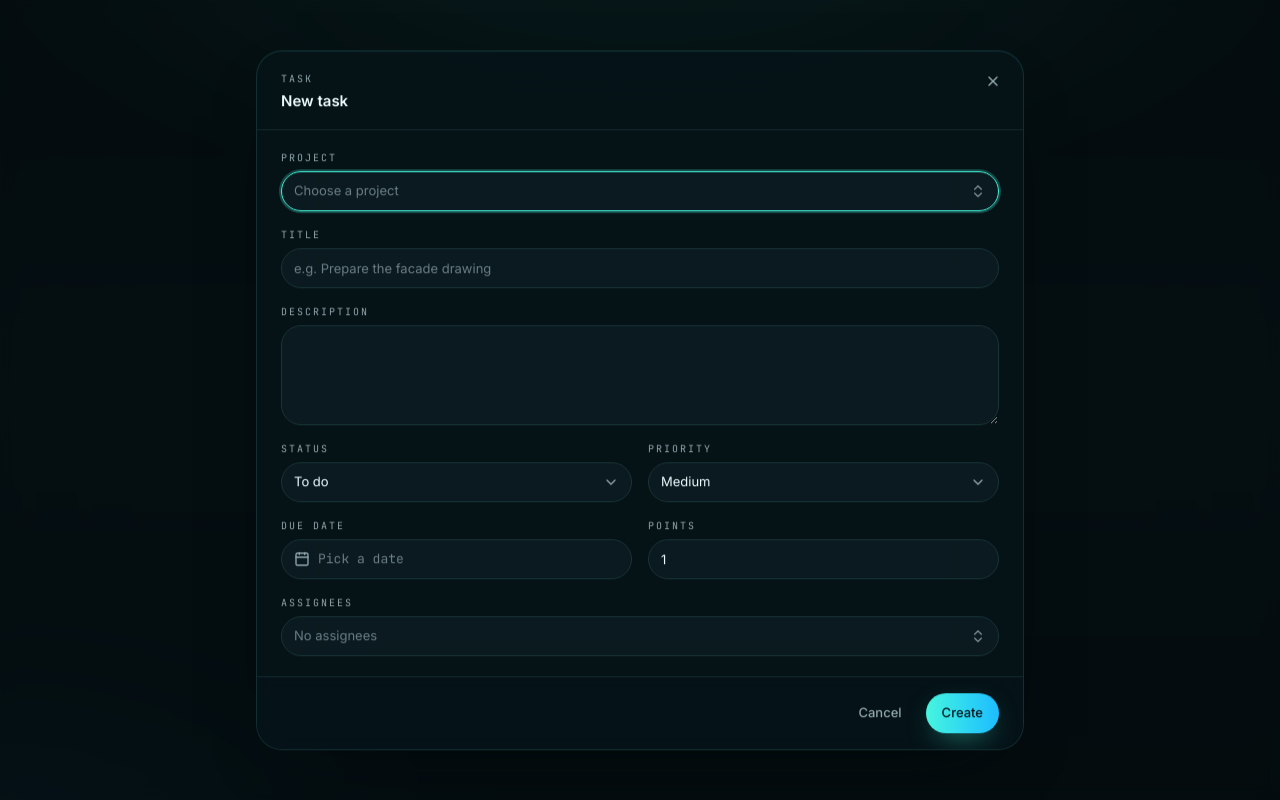
IssueFormDialog › validates required fields
Click the button "Create": (962, 713) [926, 693, 999, 733]
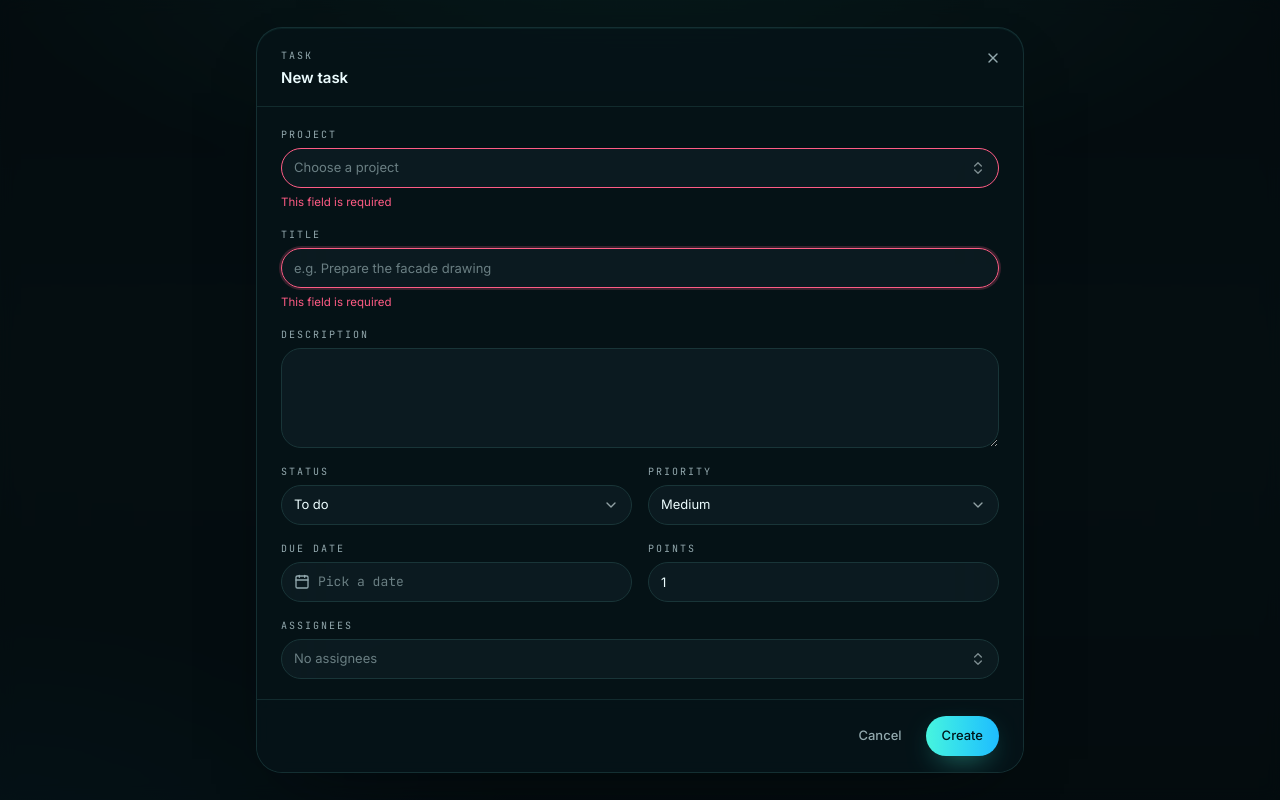
Expected: the text "This field is required" is shown 2 times, [281, 194, 392, 208]; [281, 295, 392, 309]
